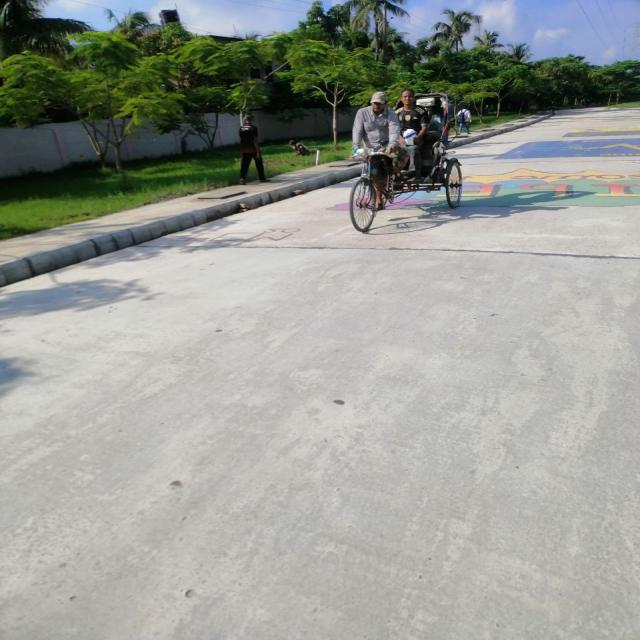Rickshaw: (336, 89, 464, 233)
